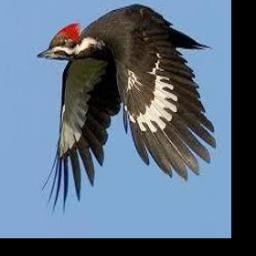Woodpecker: (37, 3, 216, 216)
